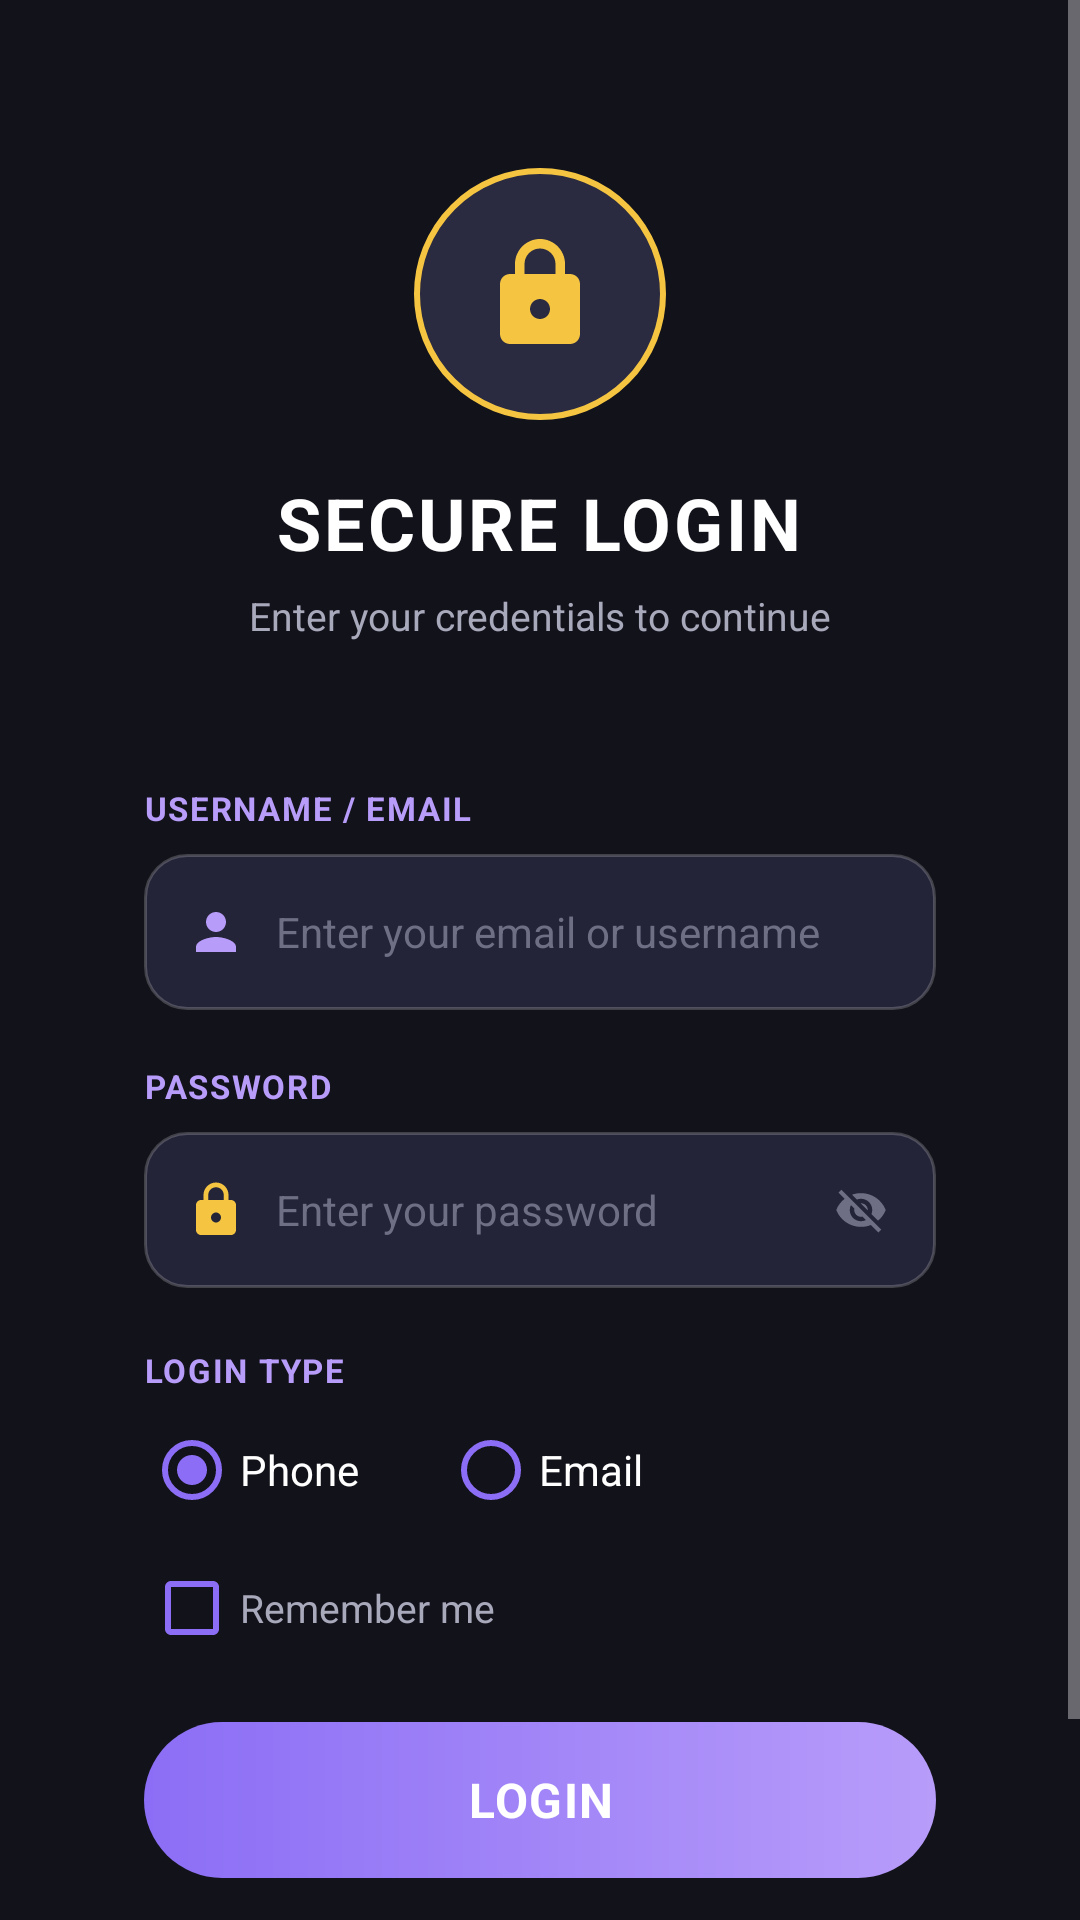

Icons on this 1080*1920 Android screen, each with the point to tap as (x,y):
eye off: (861,1211)
lock: (540,291), (216,1208)
person: (216,932)
